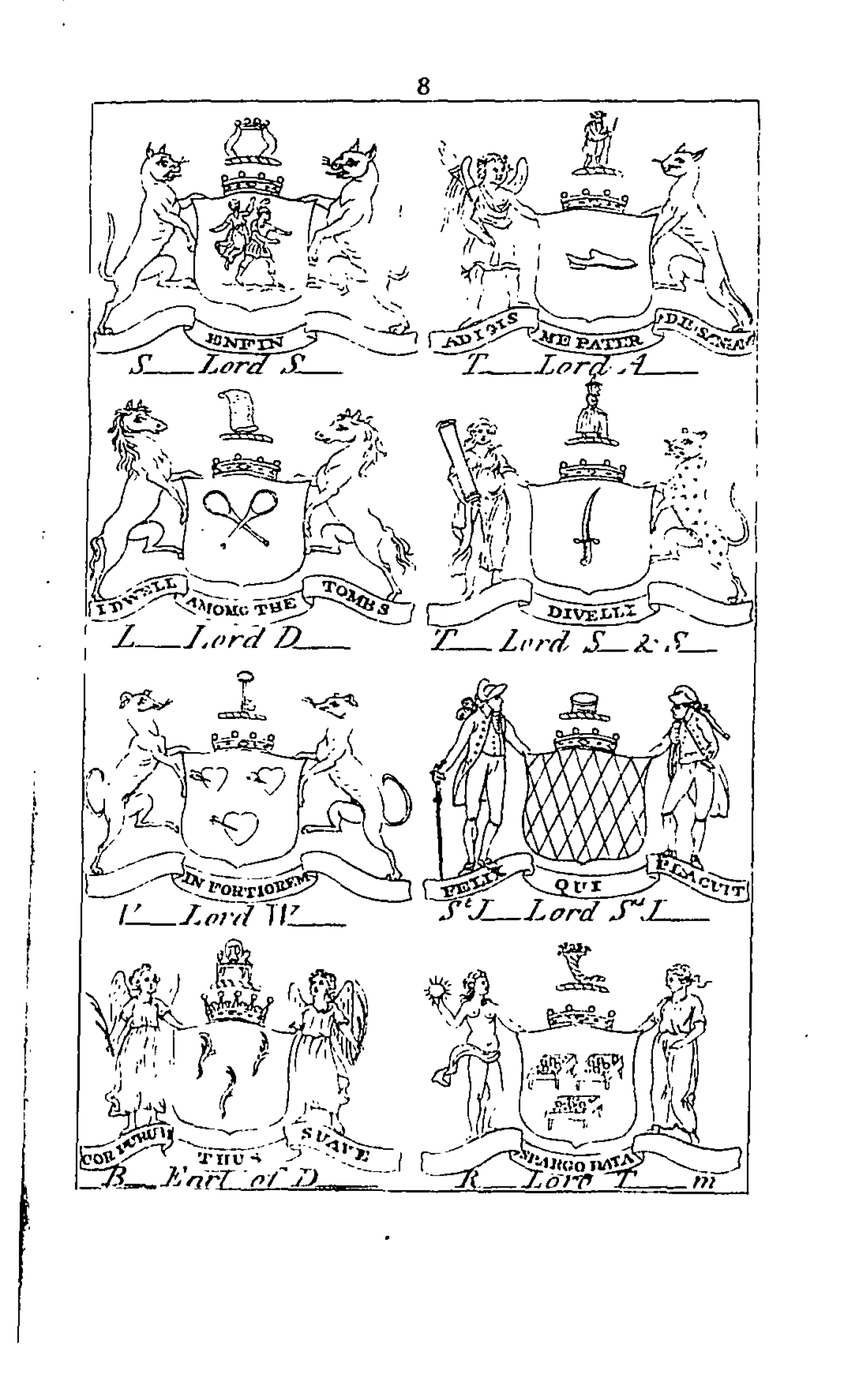coat_of_arms: (418, 380, 758, 668), (85, 107, 426, 382), (420, 105, 756, 384), (90, 387, 423, 657), (69, 931, 414, 1188), (418, 666, 746, 936), (88, 661, 415, 928), (406, 942, 748, 1195)
